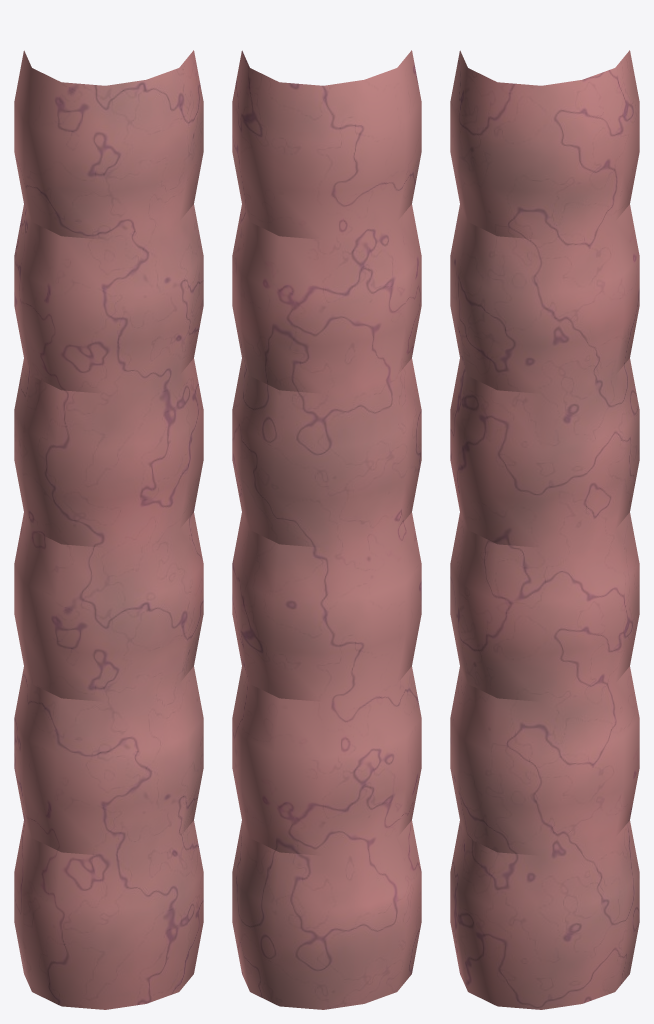
File: gut_rope.glb
3 renders of one model, left to right at view 1: azimuth 30°, elevation 25°; view 2: azimuth 150°, elevation 25°; view 3: azimuth 270°, elevation 25°, orthographic.
Parts seen in each view (by area): view 1: OUT; view 2: OUT; view 3: OUT.
Part boxes in pixels (x1,y1,x2,y2): OUT: (14, 50, 203, 1009); OUT: (232, 50, 421, 1009); OUT: (450, 50, 639, 1009).
Size of the model in its own units: 0.0556 by 0.3 by 0.0556.
1 material, 1 textured.
